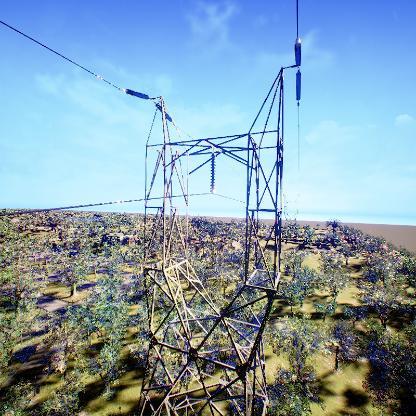insulator: (156, 102, 173, 123), (208, 154, 216, 194), (124, 87, 150, 99), (295, 71, 303, 104), (295, 38, 302, 68)
tower: (120, 38, 304, 416)
